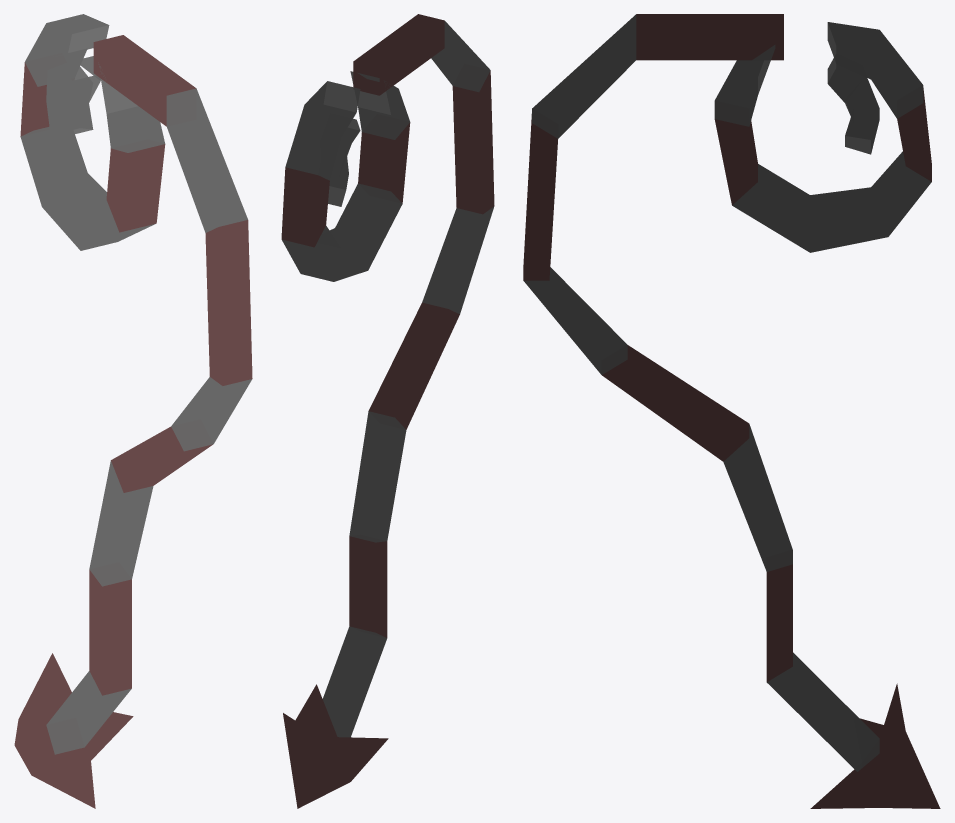
The model's file is whip.fbx.
3 views of the same model, side by side, from view 1: azimuth 30°, elevation 25°; view 2: azimuth 150°, elevation 25°; view 3: azimuth 270°, elevation 25° (orthographic). The views are drawn at different scales.
Visible parts, largest first — view 1: runescapemodel.006; view 2: runescapemodel.006; view 3: runescapemodel.006.
Part boxes in pixels (left/top/right/bottom): runescapemodel.006: left=14, top=14, right=252, bottom=808; runescapemodel.006: left=281, top=14, right=494, bottom=808; runescapemodel.006: left=523, top=14, right=940, bottom=808.
Bounding box in the file's own units: 1600 × 10000 × 4800.
